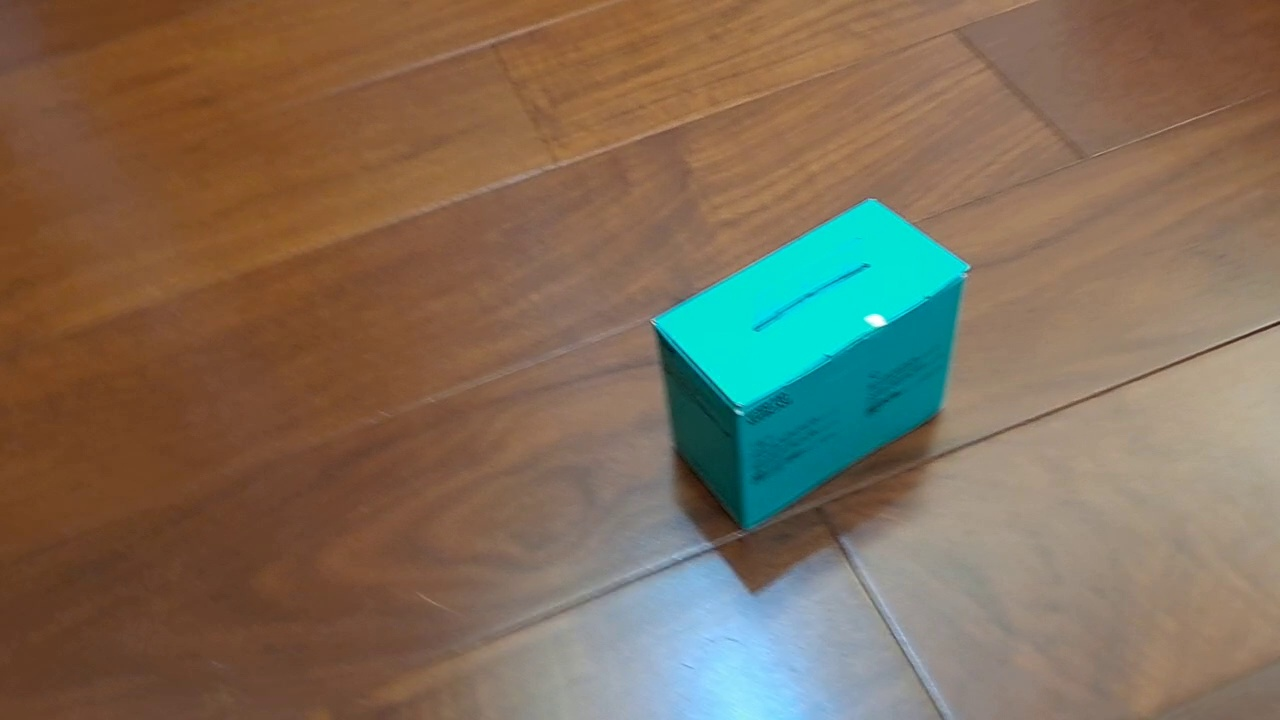webcam: (647, 196, 972, 536)
